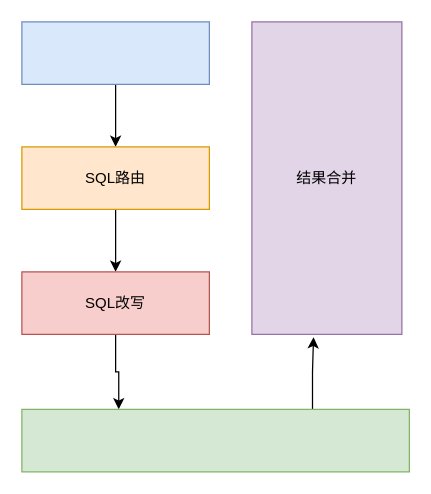
This 431x494 diagram has some shape labels left out. Here are the shapes that lost their labels. From the top down, the box of each, then its label:
(21, 21, 209, 84): SQL解析
(21, 408, 409, 472): SQL执行
